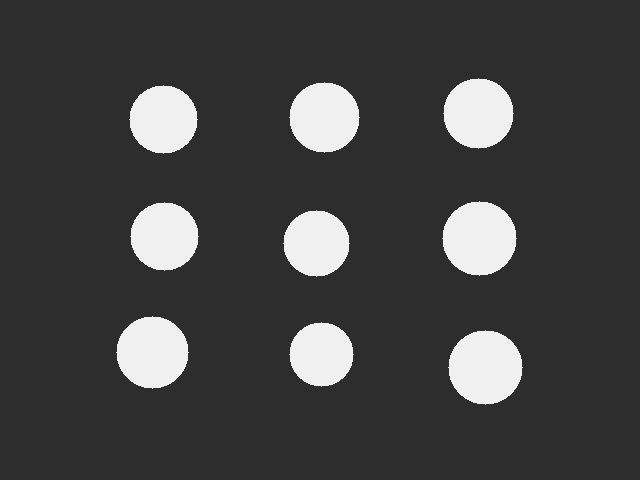hole: (442, 201, 516, 275), (448, 330, 522, 404), (116, 316, 188, 388), (289, 82, 359, 152), (443, 78, 513, 148), (129, 85, 197, 153), (130, 202, 198, 270), (283, 210, 349, 276), (289, 322, 353, 386)
